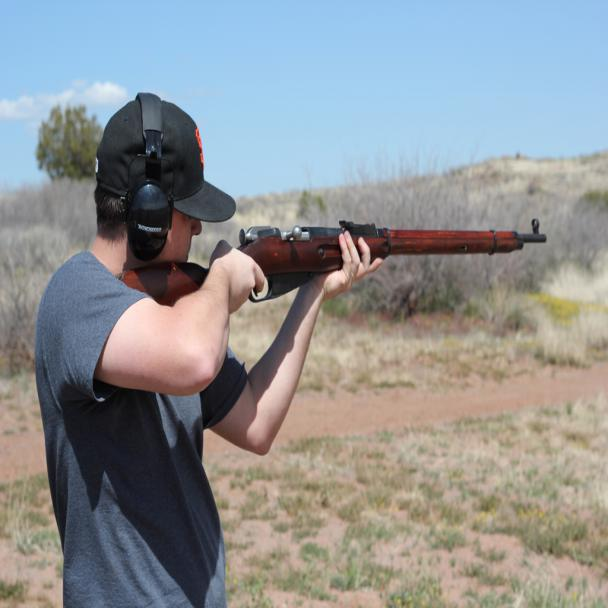Gun: (117, 214, 552, 327)
Hand: (281, 229, 385, 332), (206, 237, 268, 341)
